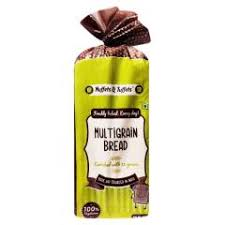bread: (62, 21, 164, 223)
